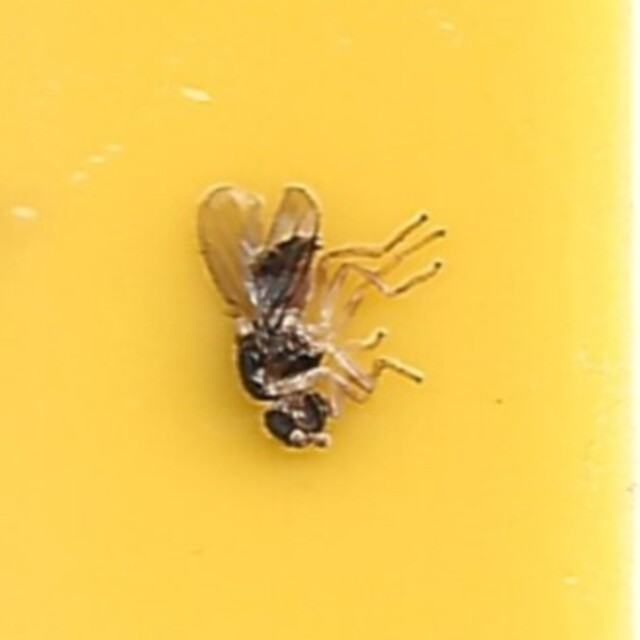Brachycera: (195, 182, 445, 458)
